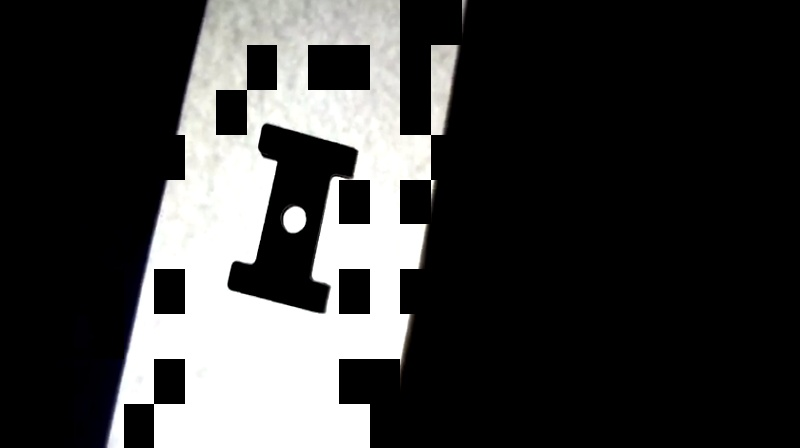O002: (219, 119, 362, 316)
